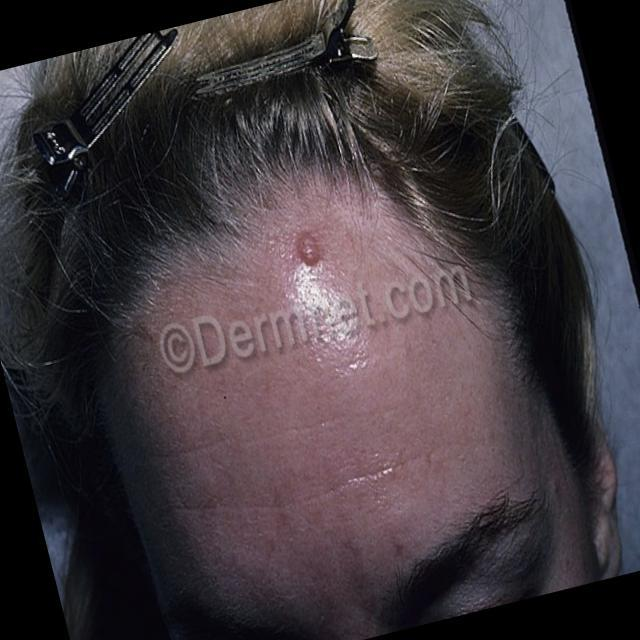Eczema: (276, 223, 336, 271)
